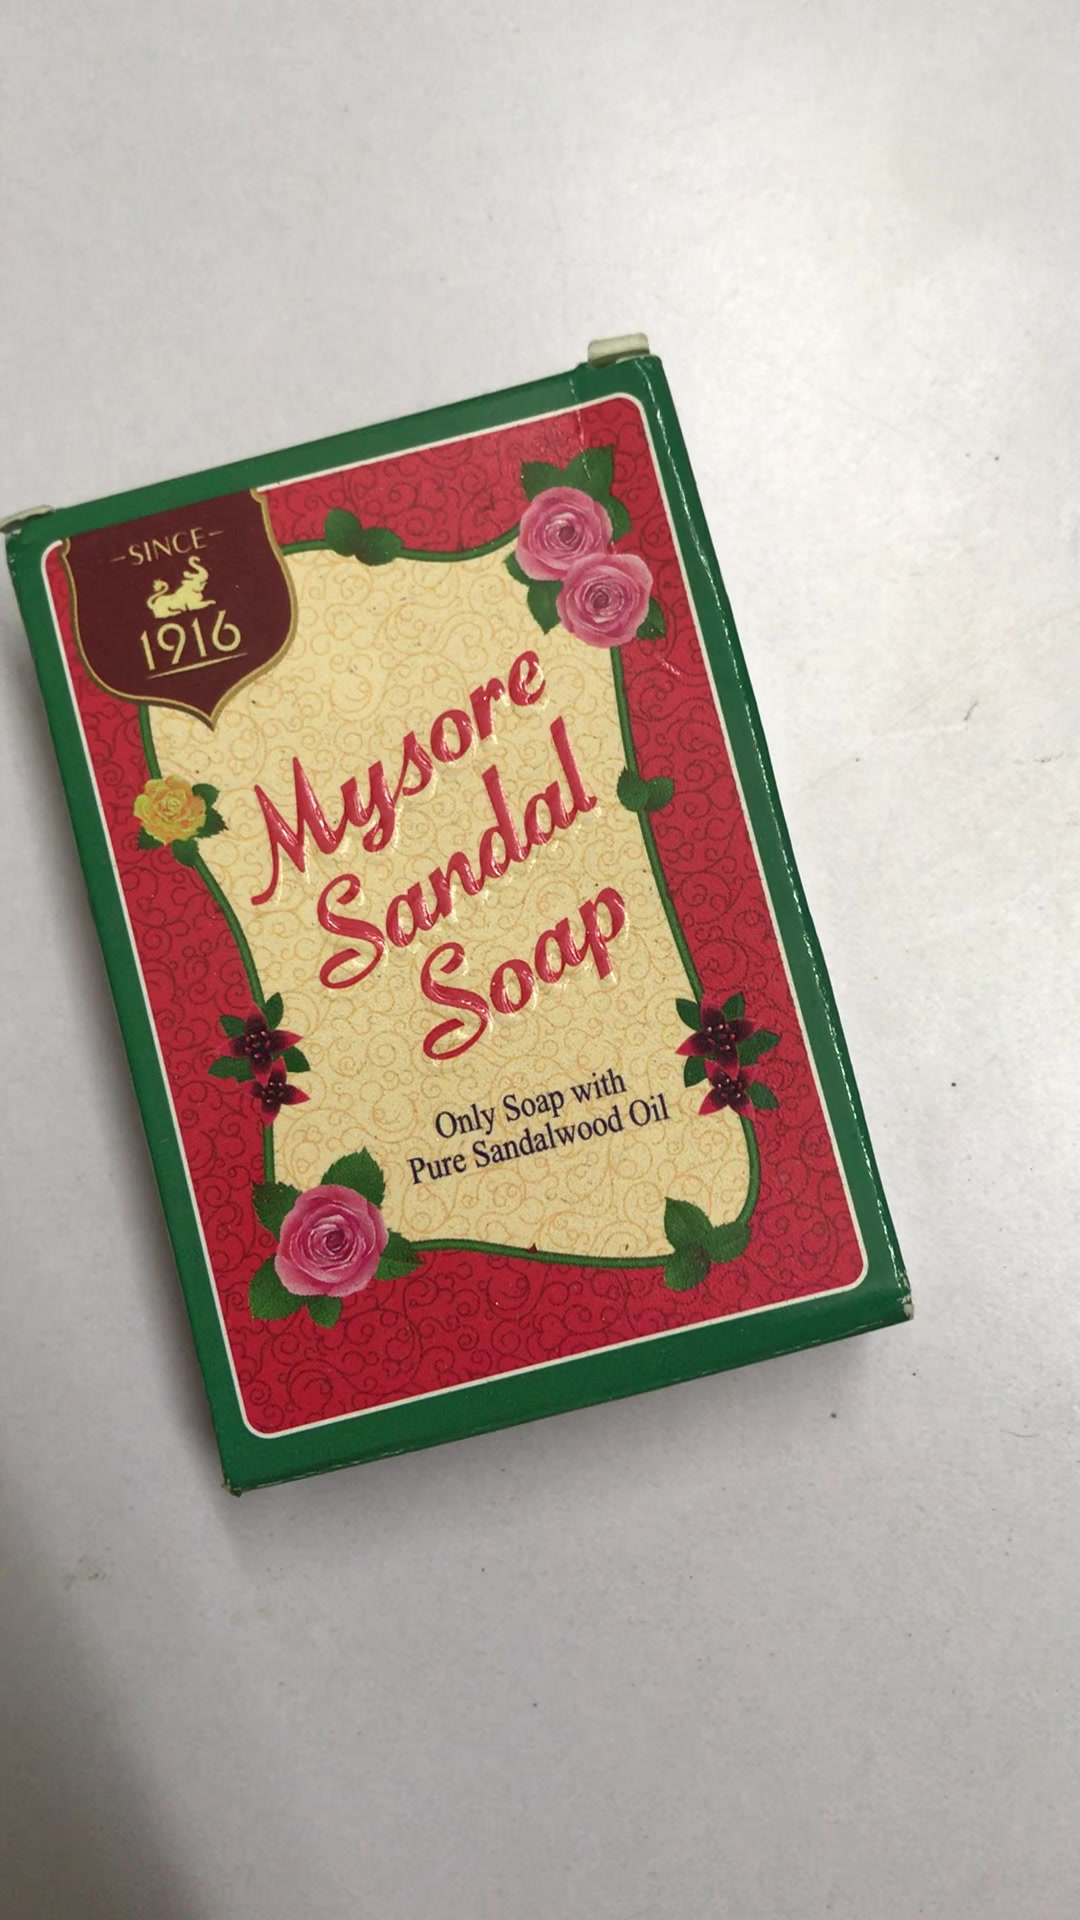mysore sandal soap: (5, 348, 920, 1505)
